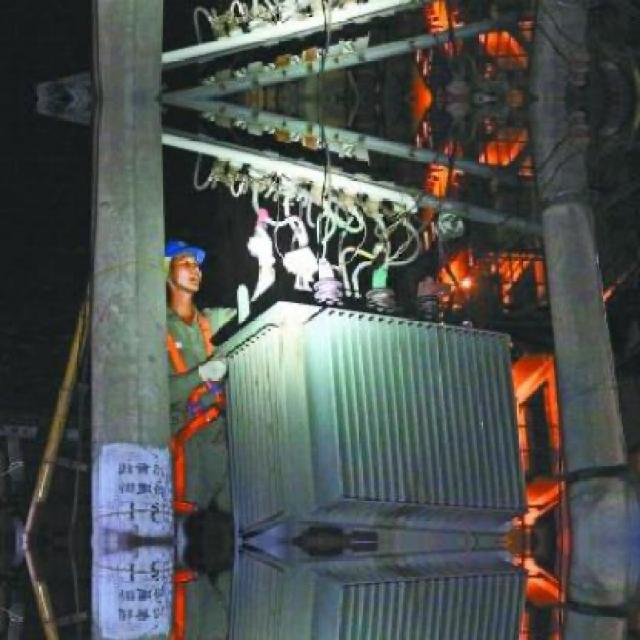helmet: (163, 240, 208, 306)
